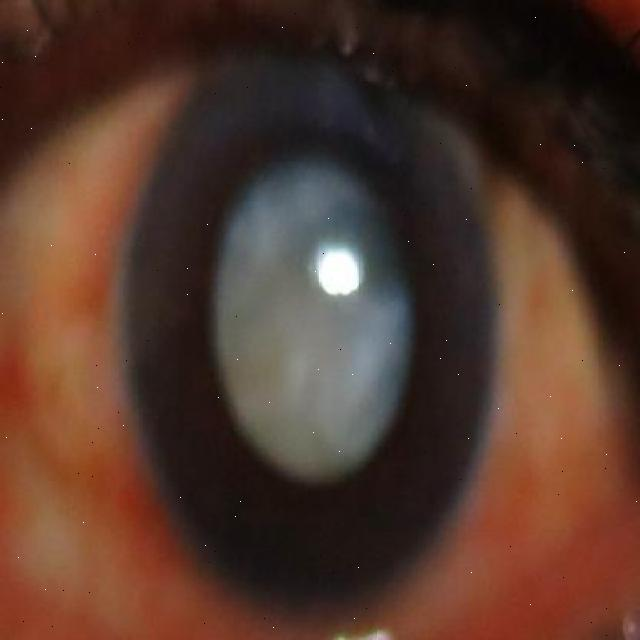Cataract: (111, 40, 505, 616)
